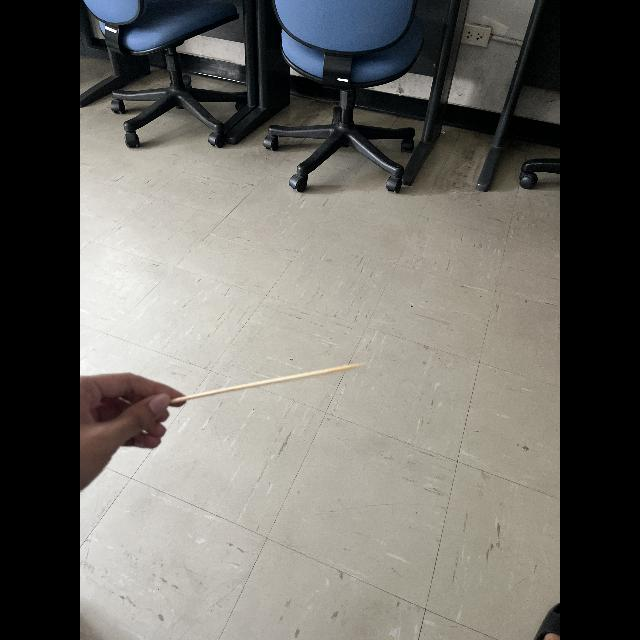stick: (130, 346, 388, 442)
